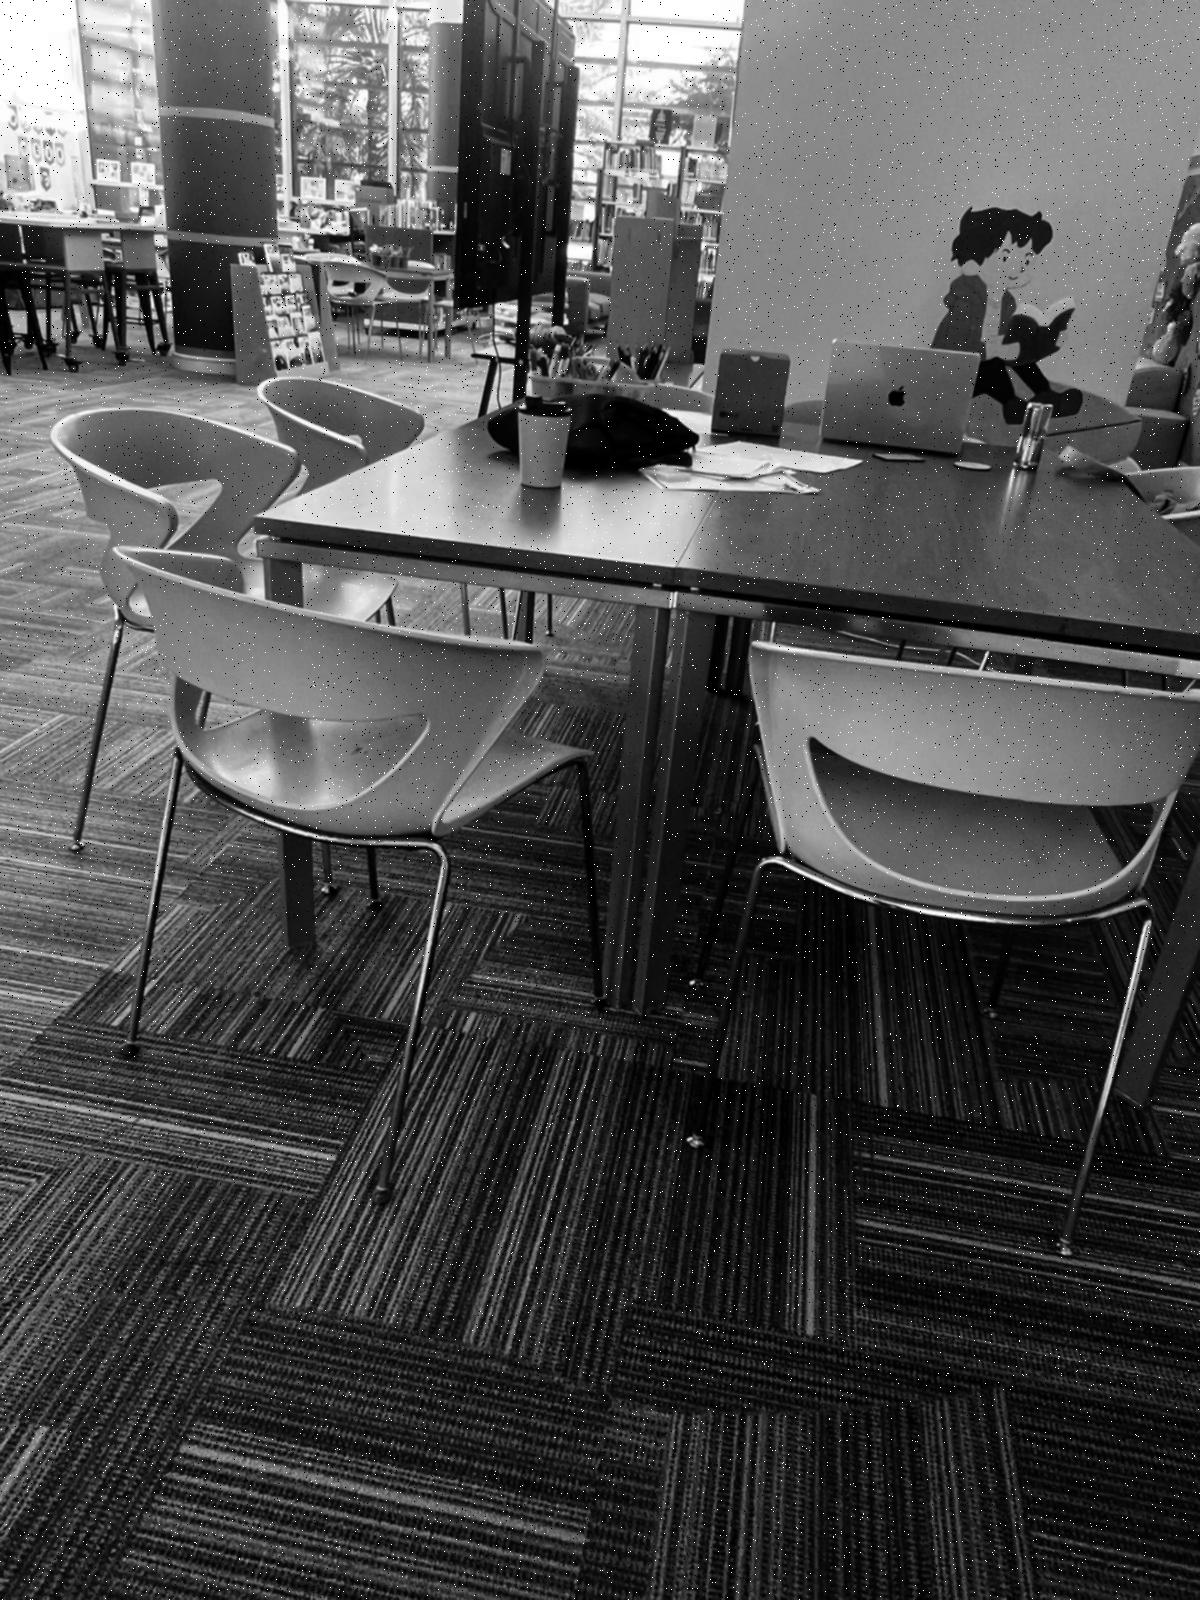Chair: (113, 546, 606, 1191), (700, 641, 1199, 1255), (52, 408, 300, 850), (257, 375, 424, 489), (324, 256, 405, 319), (303, 569, 392, 620)
Couch: (562, 270, 610, 334), (693, 299, 710, 363), (534, 295, 552, 307)
Pillar: (153, 0, 275, 370), (426, 0, 463, 209)
Table: (256, 418, 1199, 1012), (0, 212, 161, 370), (1114, 860, 1199, 1106), (368, 261, 451, 362), (279, 835, 314, 947)
Tv: (458, 0, 577, 312)
Wall: (710, 0, 1199, 401)
